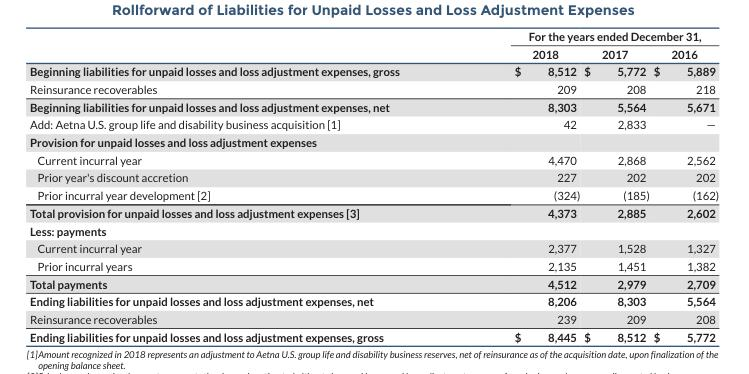table: (28, 28, 718, 342)
table column: (28, 28, 456, 342), (456, 28, 581, 342), (581, 28, 650, 342), (650, 28, 718, 342)
table column header: (28, 28, 718, 62)
table projected row header: (28, 132, 718, 150), (28, 221, 718, 238)
table row: (28, 44, 718, 62), (28, 79, 718, 97), (28, 97, 718, 115), (28, 132, 718, 150), (28, 150, 718, 168), (28, 185, 718, 203), (28, 203, 718, 221), (28, 238, 718, 256), (28, 256, 718, 274), (28, 291, 718, 309), (28, 309, 718, 327), (28, 62, 718, 79), (28, 115, 718, 132), (28, 168, 718, 185), (28, 221, 718, 238), (28, 274, 718, 291), (28, 28, 718, 44), (28, 327, 718, 342)
table spanning cell: (456, 28, 718, 44)
